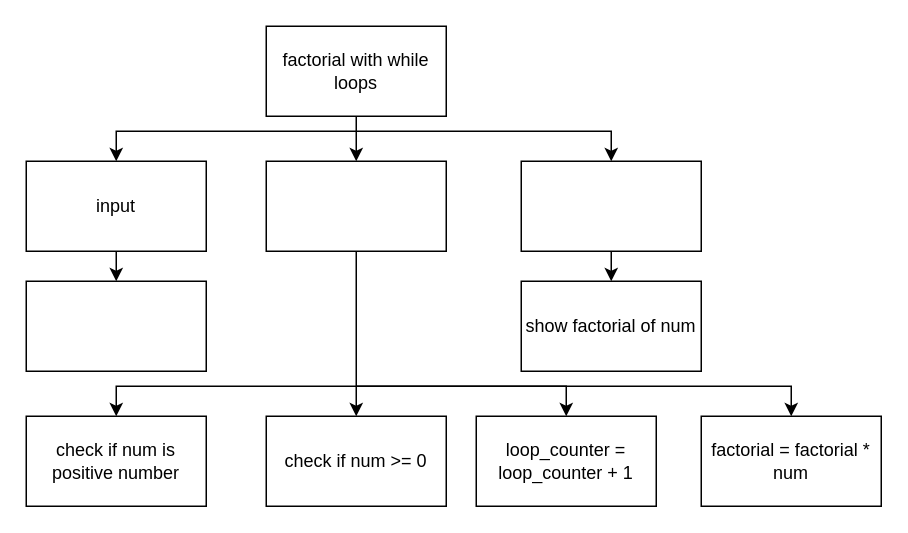
Image size: 908x533. Some labels were removed from this diagram. Each missing label, with the centre of its shape:
"get num from user" belongs at (115,325).
"ouput" belongs at (610,205).
"process" belongs at (355,205).
